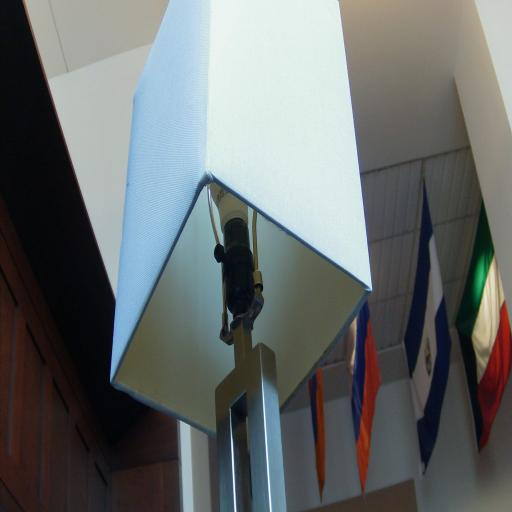lamp: (109, 0, 372, 512)
